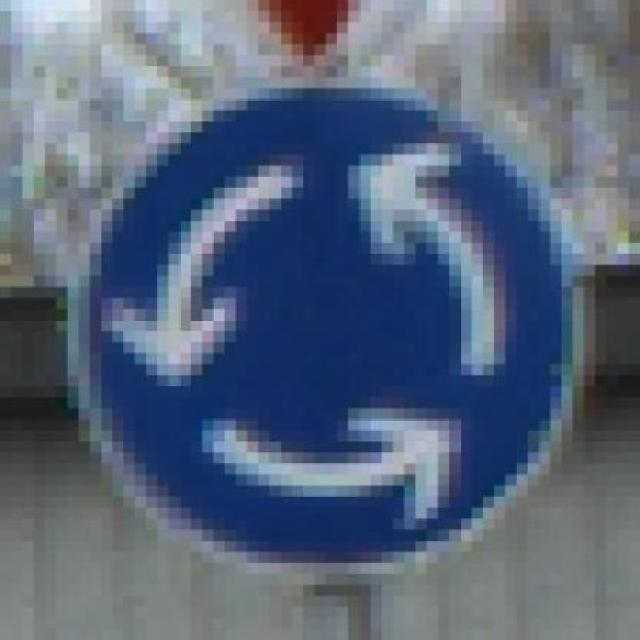Round-About: (56, 66, 607, 596)
